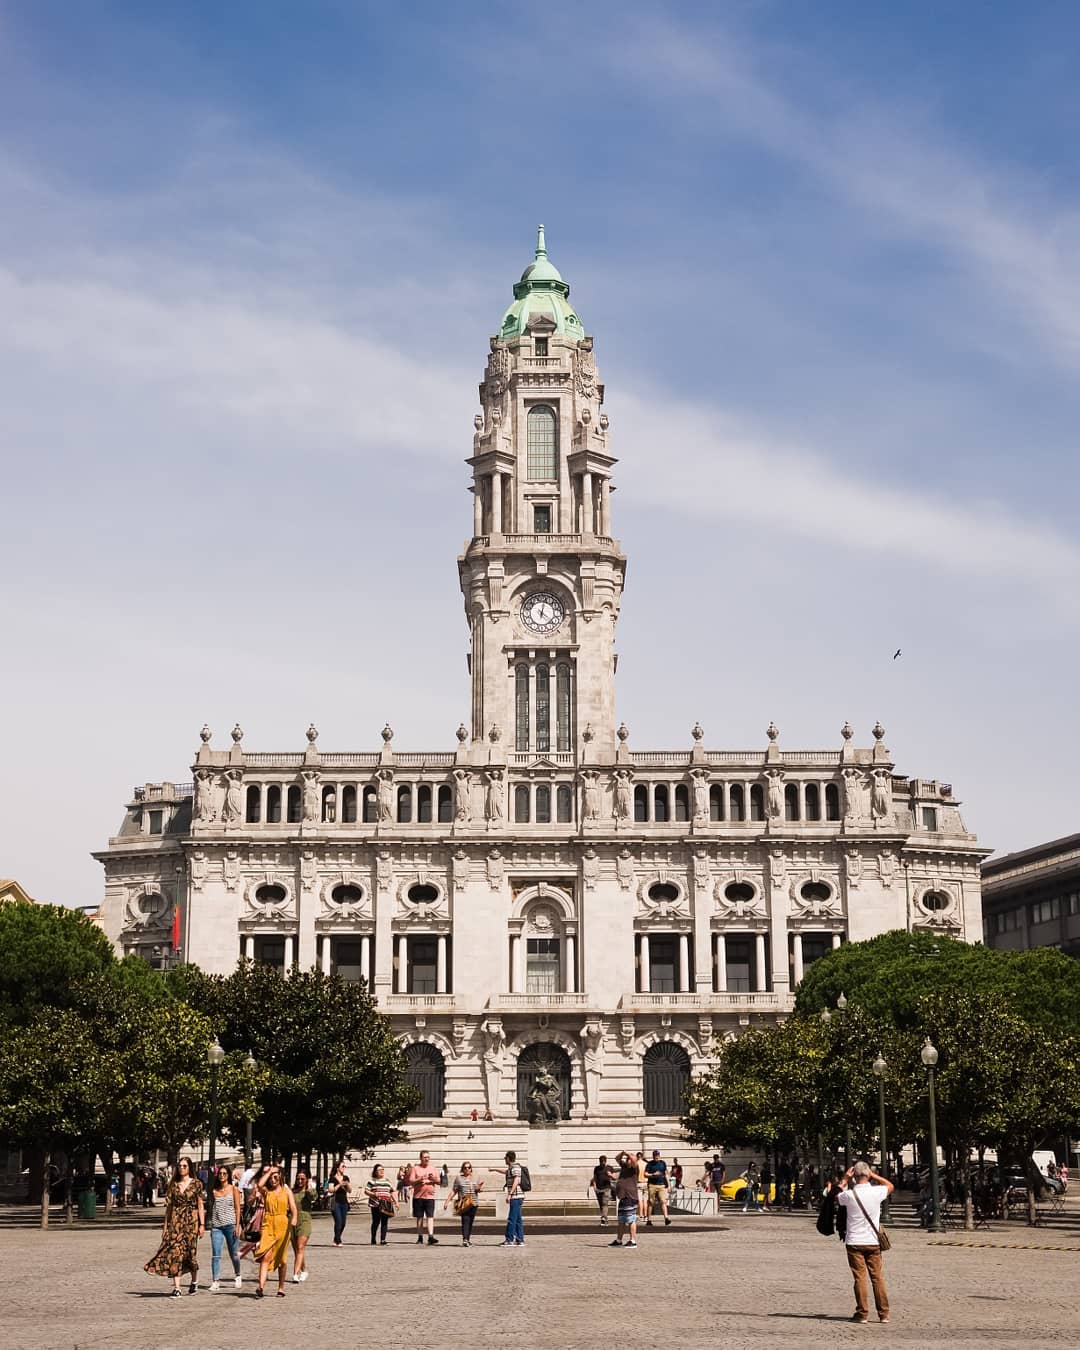camara: (89, 216, 1000, 1169)
